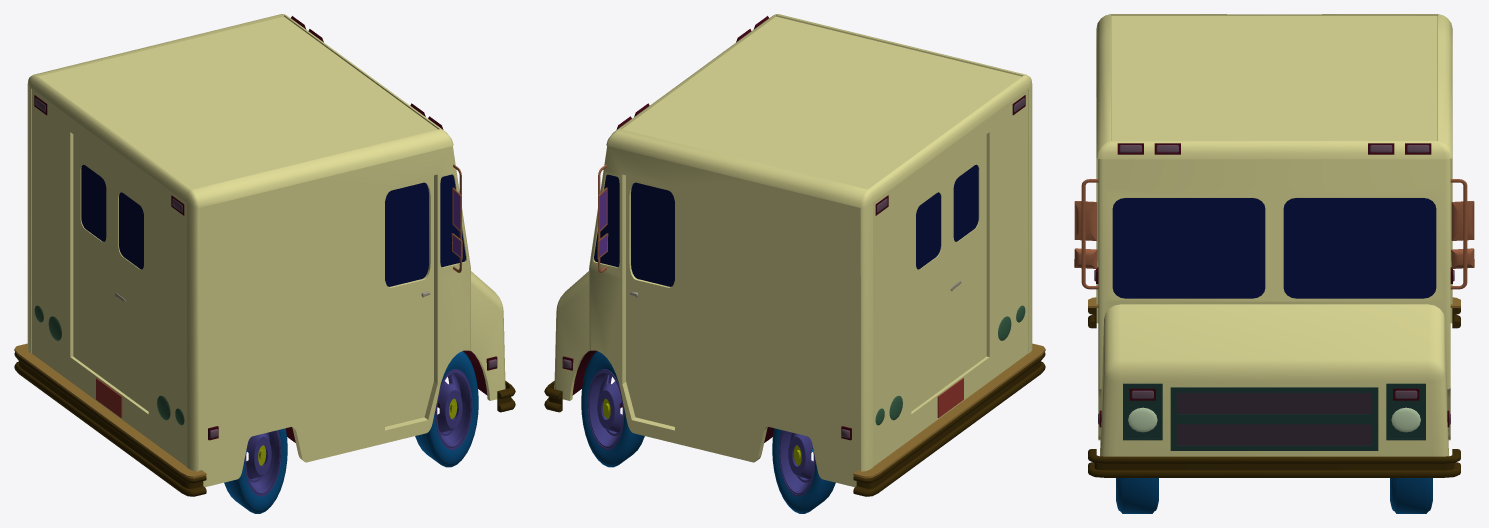
File: Truck.dae
3 renders of one model, left to right at view 1: azimuth 30°, elevation 25°; view 2: azimuth 150°, elevation 25°; view 3: azimuth 270°, elevation 25°, orthographic. The views are drawn at different scales.
Visible parts, largest first — view 1: mailTruck.body; view 2: mailTruck.body; view 3: mailTruck.body.
Boxes of the visible parts, left/top/right/bottom form: mailTruck.body: left=14, top=14, right=515, bottom=513; mailTruck.body: left=544, top=14, right=1045, bottom=513; mailTruck.body: left=1074, top=14, right=1474, bottom=513.
Bounding box in the file's own units: 1 × 1 × 1.
